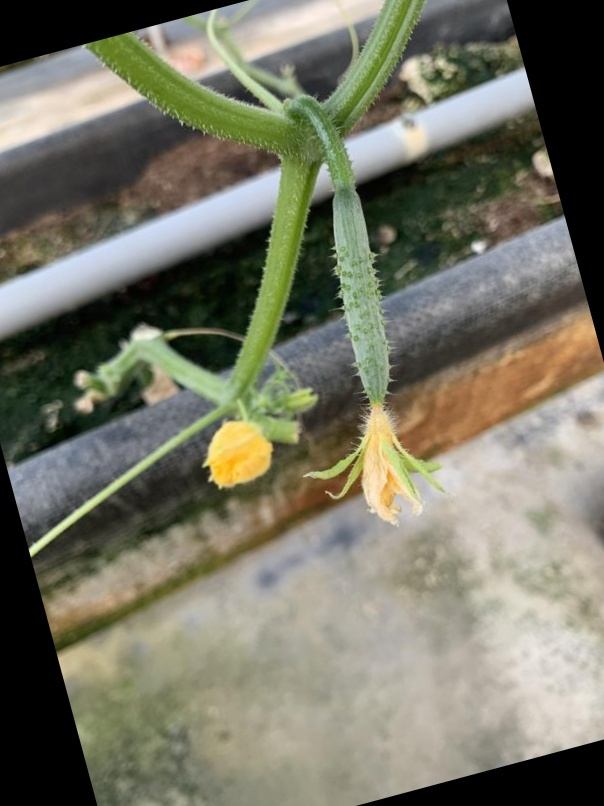bear: (296, 152, 458, 546)
